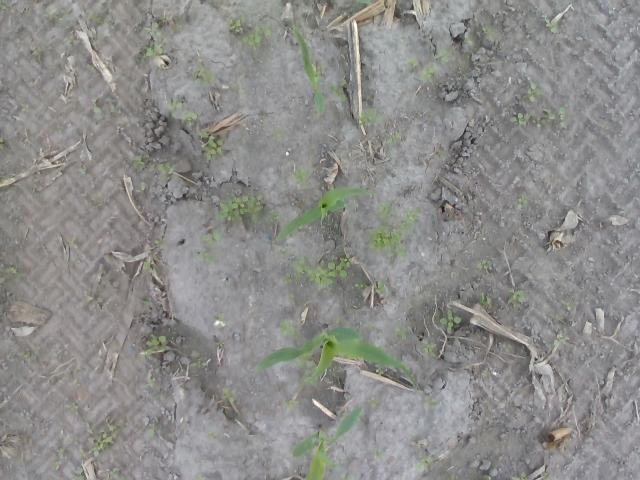Maize: (254, 326, 419, 390), (274, 185, 374, 241), (290, 405, 364, 480), (292, 24, 326, 115)
Weeds: (308, 253, 352, 290), (214, 194, 264, 224), (368, 225, 408, 258), (86, 424, 118, 456), (240, 26, 272, 52), (298, 348, 318, 388), (198, 130, 223, 161), (140, 334, 166, 359), (396, 206, 421, 232), (138, 40, 164, 64), (439, 309, 462, 333), (192, 64, 215, 86), (291, 255, 310, 281), (358, 108, 384, 127), (535, 107, 556, 128), (414, 451, 434, 473), (163, 96, 183, 117), (506, 288, 526, 308), (279, 319, 300, 338), (329, 80, 346, 102), (226, 16, 248, 33), (202, 229, 220, 249), (377, 202, 396, 220), (157, 161, 174, 181), (42, 9, 66, 23), (293, 168, 311, 186), (418, 66, 436, 84), (52, 447, 66, 470), (142, 20, 162, 36), (180, 111, 198, 128), (526, 82, 541, 102), (105, 467, 128, 480), (20, 347, 40, 361), (510, 112, 532, 124), (212, 313, 228, 329), (199, 248, 214, 265), (423, 395, 438, 412), (90, 96, 104, 114), (86, 295, 104, 308), (153, 234, 167, 250), (222, 388, 236, 404), (422, 340, 436, 356), (89, 10, 105, 24), (132, 155, 145, 172), (559, 106, 569, 128), (282, 399, 300, 411), (143, 260, 157, 275), (545, 18, 558, 33), (386, 132, 402, 144), (366, 396, 381, 408), (476, 259, 492, 270), (316, 63, 326, 80), (518, 193, 528, 210), (204, 429, 218, 441), (396, 326, 408, 340), (553, 334, 567, 346), (478, 294, 492, 306), (434, 49, 448, 61), (350, 202, 359, 220), (5, 266, 21, 276), (269, 209, 282, 221), (406, 56, 418, 69), (65, 34, 78, 46), (375, 280, 386, 294), (190, 360, 208, 368), (72, 468, 84, 480), (232, 82, 245, 93), (511, 472, 528, 480), (276, 248, 293, 256), (136, 298, 151, 306), (144, 378, 156, 388), (282, 272, 292, 284), (464, 32, 474, 44), (64, 402, 79, 410), (341, 472, 355, 480), (482, 26, 496, 34), (566, 301, 578, 310), (20, 102, 30, 112), (436, 148, 446, 158), (66, 236, 76, 246), (147, 424, 155, 436), (355, 283, 368, 290), (373, 449, 383, 458), (354, 0, 372, 5), (285, 293, 294, 302), (376, 366, 384, 376), (274, 128, 282, 138), (33, 48, 43, 56), (503, 344, 512, 352), (362, 322, 374, 328), (541, 471, 549, 480), (1, 174, 12, 180), (216, 340, 225, 347), (0, 136, 4, 150), (482, 370, 491, 376), (0, 0, 6, 9), (335, 317, 342, 324), (448, 474, 456, 480), (77, 167, 86, 172), (197, 474, 204, 480), (140, 182, 144, 190)
